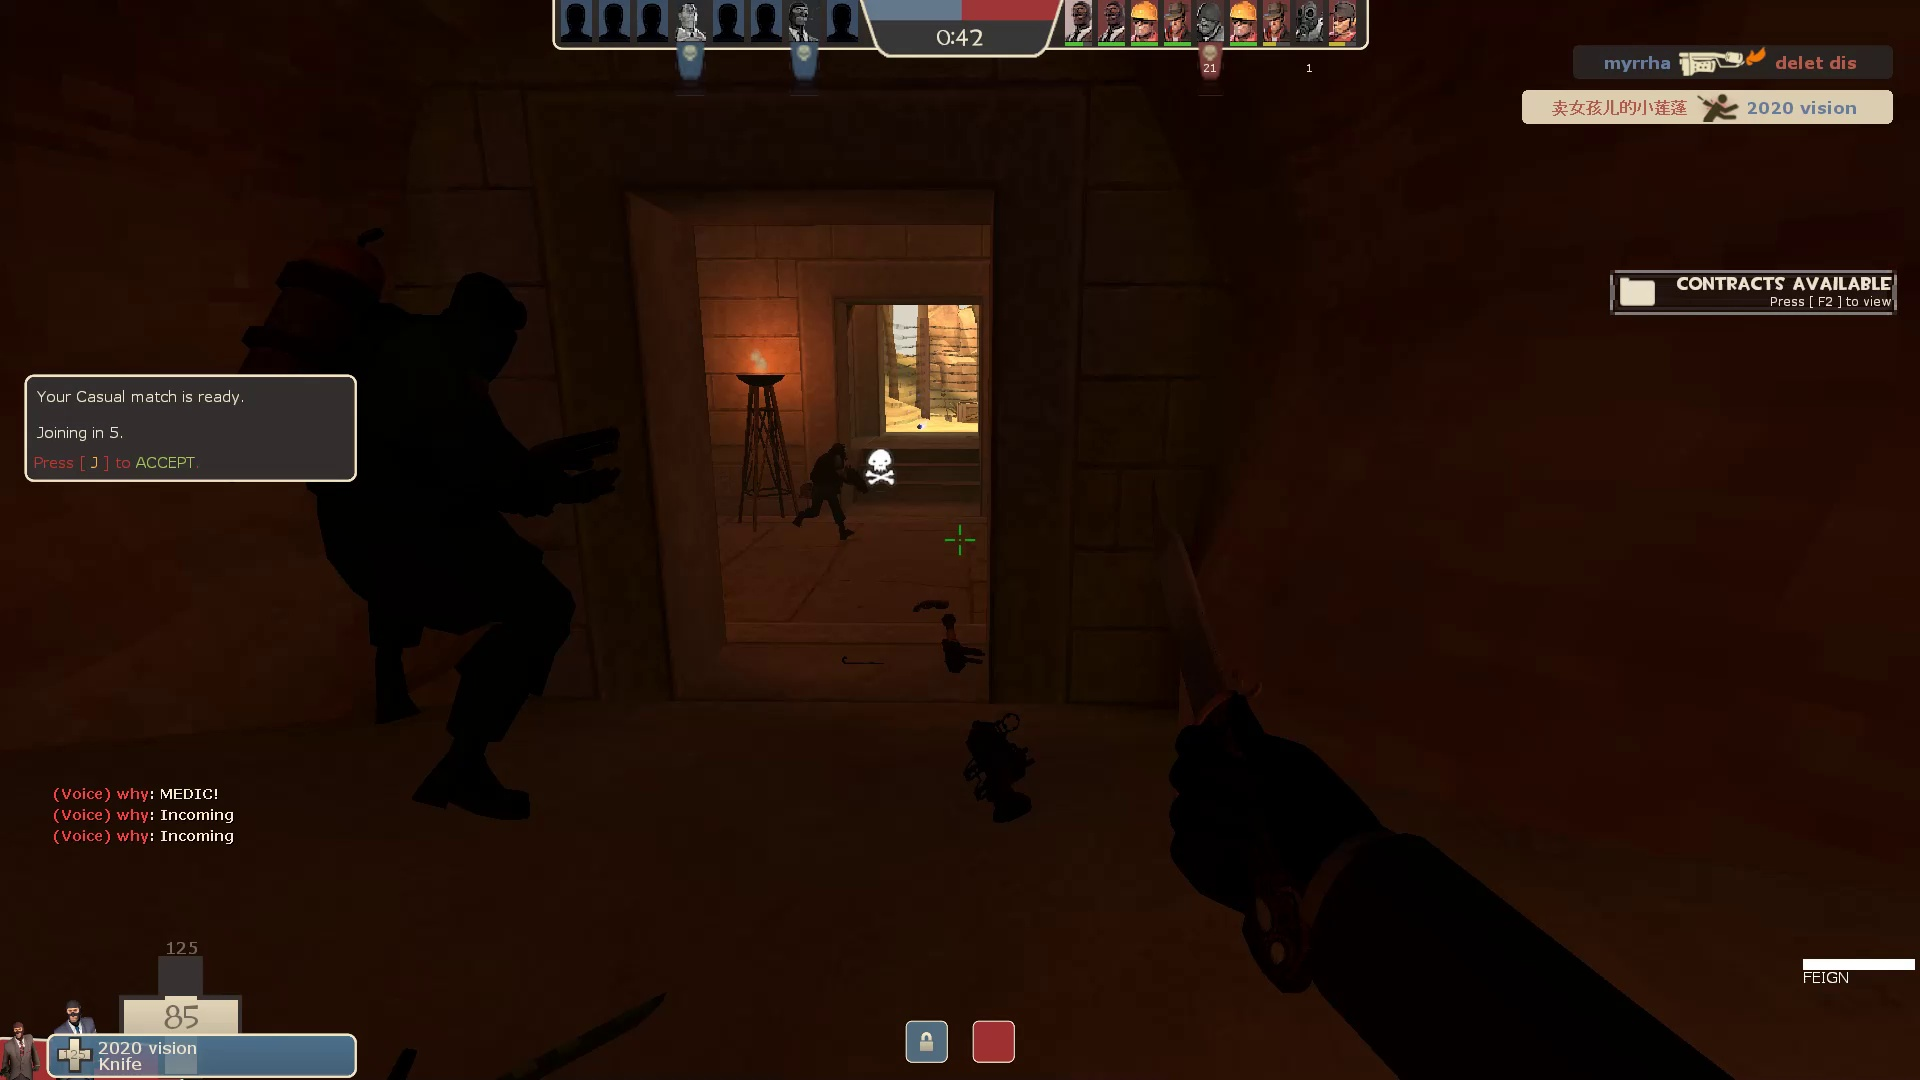blu_demo: (789, 438, 869, 545)
blu_pyro: (223, 225, 629, 851)
